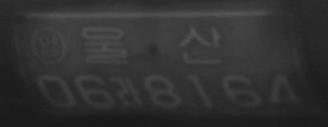0: (34, 73, 75, 109)
1: (184, 72, 217, 108)
4: (267, 70, 304, 112)
6: (220, 71, 262, 109), (76, 73, 114, 109)
8: (146, 73, 183, 110)
라: (115, 75, 146, 108)
영: (30, 25, 68, 67)
울산_D: (80, 23, 224, 67)
